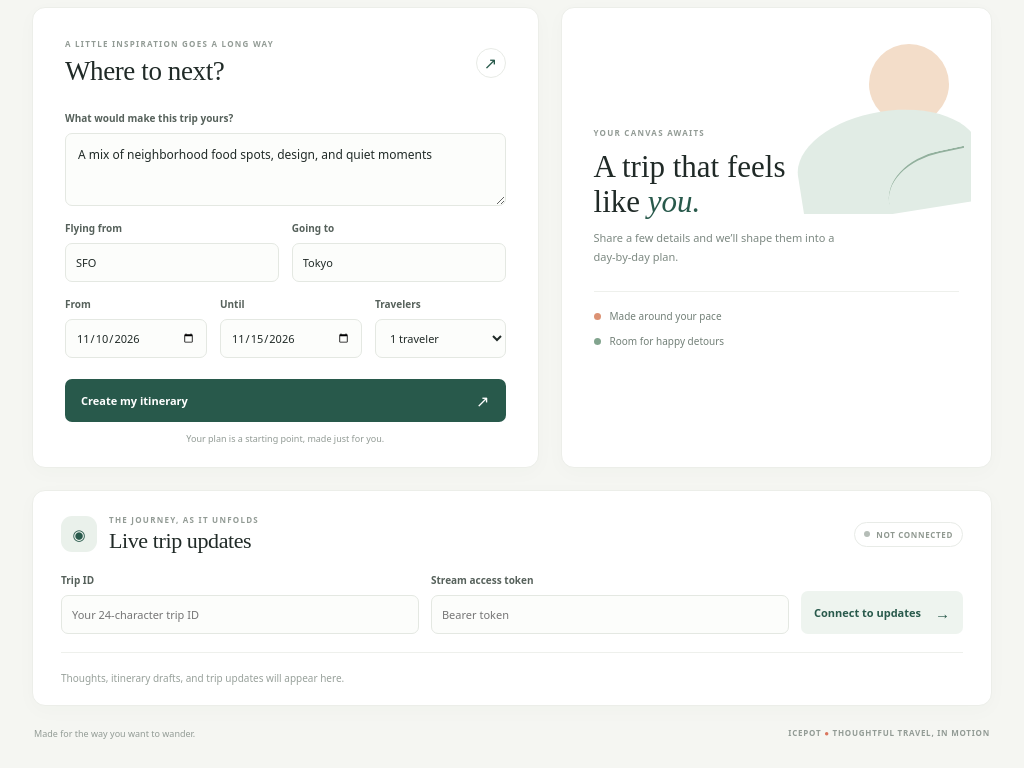
Test case: trip planning dashboard › submits the trip request and renders the returned itinerary
(page scrolled)
Step 1. Click the button "Create my itinerary ↗" → (134, 400), box [65,379,506,422]
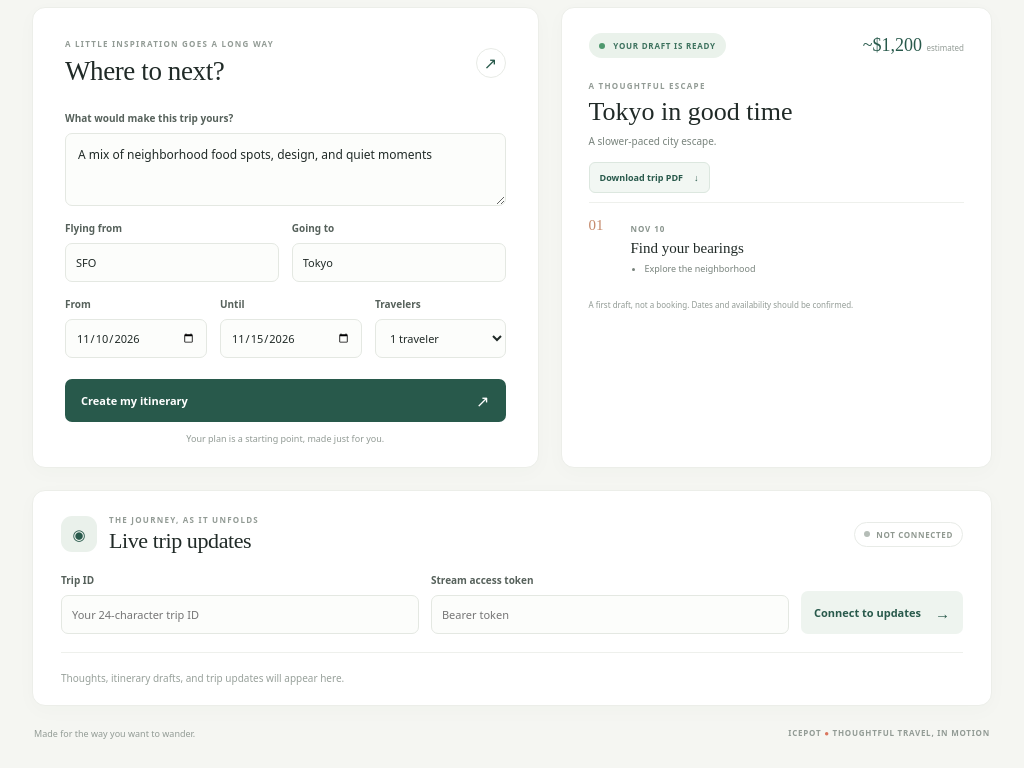
Now the heading "Tokyo in good time" is shown, box [588,97,792,126]
Now the heading "Find your bearings" is shown, box [630,240,744,256]
